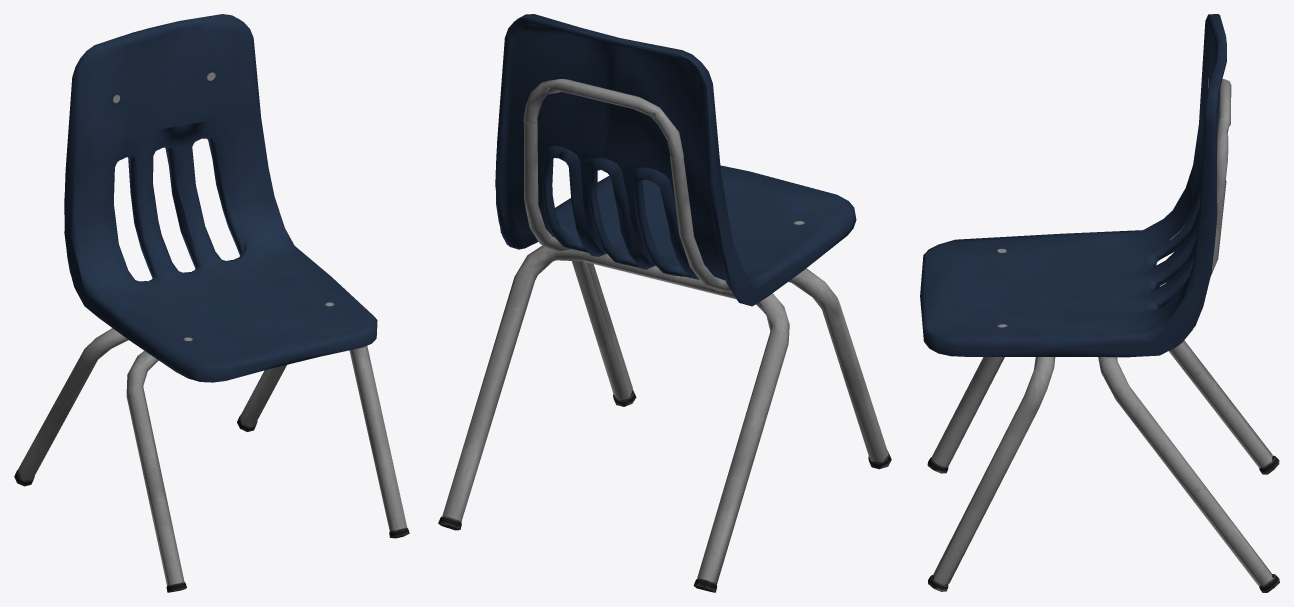
Rendered from SchoolChair_01.fbx.
3 renders of one model, left to right at view 1: azimuth 30°, elevation 25°; view 2: azimuth 150°, elevation 25°; view 3: azimuth 270°, elevation 25°, orthographic. The views are drawn at different scales.
Visible parts, largest first — view 1: SchoolChair_01; view 2: SchoolChair_01; view 3: SchoolChair_01.
Part boxes in pixels (left/top/right/bottom): SchoolChair_01: left=14, top=14, right=409, bottom=592; SchoolChair_01: left=438, top=14, right=891, bottom=592; SchoolChair_01: left=920, top=14, right=1279, bottom=592.
Bounding box in the file's own units: 56.65 × 101 × 67.76.
1 material, 1 textured.
